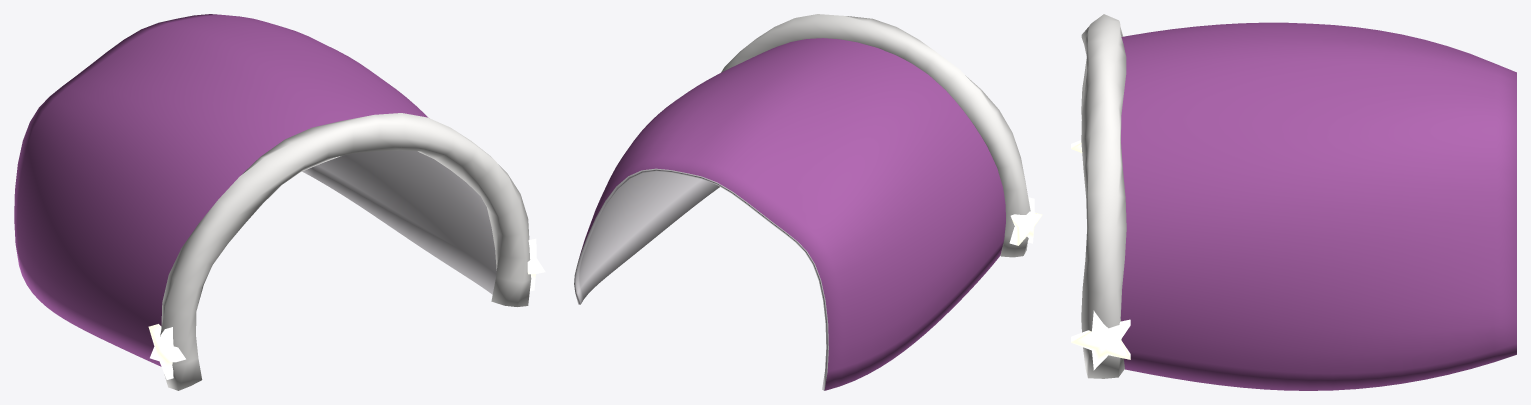
File: KingCape.fbx
3 renders of one model, left to right at view 1: azimuth 30°, elevation 25°; view 2: azimuth 150°, elevation 25°; view 3: azimuth 270°, elevation 25°, orthographic. The views are drawn at different scales.
Visible parts, largest first — view 1: KingCape; view 2: KingCape; view 3: KingCape.
Boxes of the visible parts, bbox=[...] form: KingCape: bbox=[14, 14, 545, 390]; KingCape: bbox=[574, 14, 1042, 390]; KingCape: bbox=[1071, 14, 1516, 390].
Bounding box in the file's own units: 1.09 × 0.687 × 1.02.
